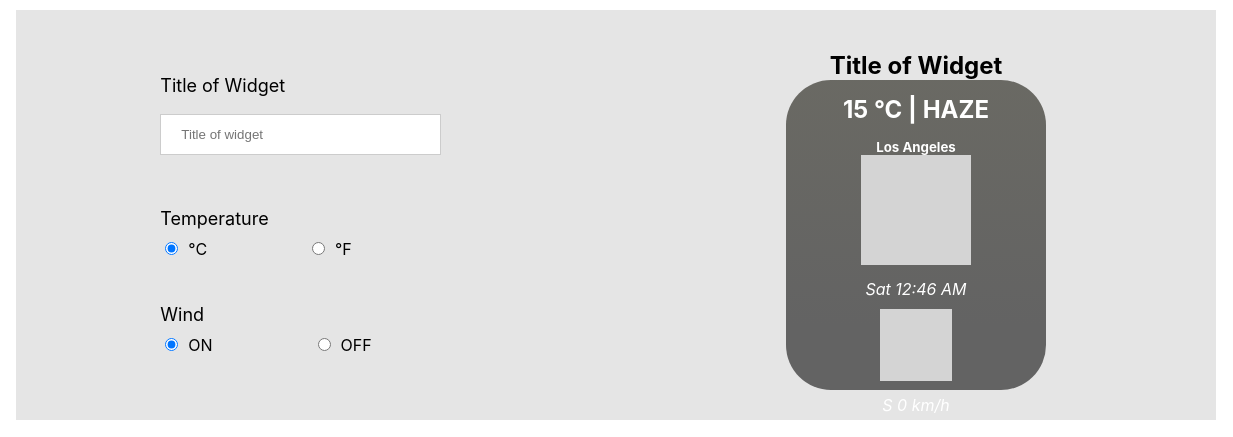
Widget component › should show 66°F temperature and haze in the description div when user click on °F radio button.
Expected: the heading "15 °C | haze" is shown, left=843, top=94, right=989, bottom=124
Click the 1st radio button with class "right". click: (319, 248)
box: left=312, top=242, right=325, bottom=255
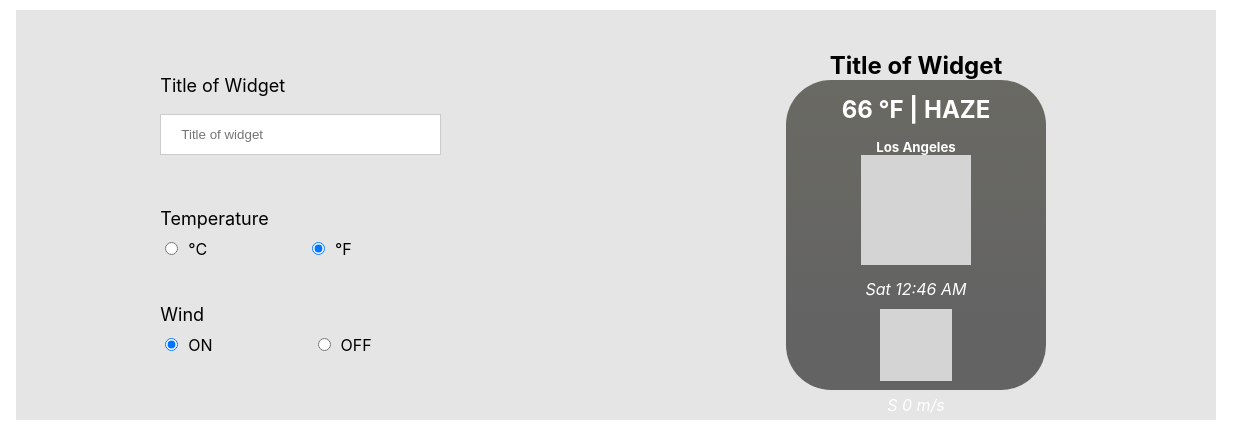
Result: the heading "66 °F | haze" is shown at left=842, top=94, right=990, bottom=124
